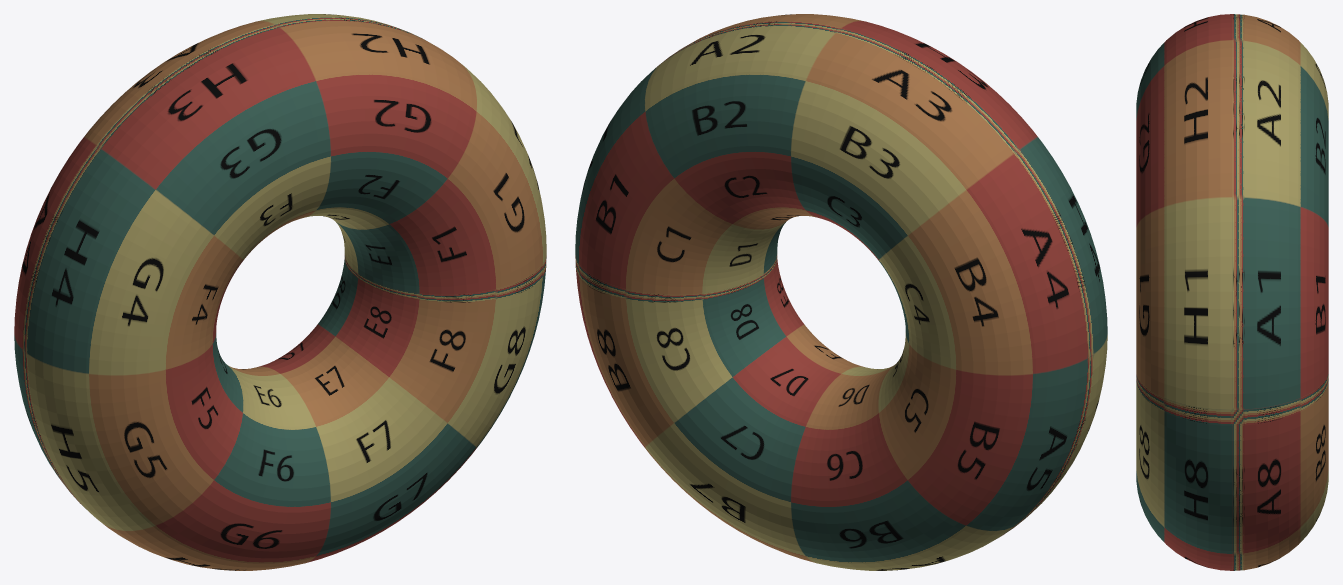
The model's file is texture_torus_R4_r9.glb.
3 renders of one model, left to right at view 1: azimuth 30°, elevation 25°; view 2: azimuth 150°, elevation 25°; view 3: azimuth 270°, elevation 25°, orthographic. The views are drawn at different scales.
Visible parts, largest first — view 1: world; view 2: world; view 3: world.
Part boxes in pixels (<box>): world: <box>14,14,546,570</box>; world: <box>575,14,1107,570</box>; world: <box>1136,14,1328,570</box>.
Size of the model in its own units: 28.89 by 28.89 by 9.98.
Materials: 1 (1 with a texture image).
